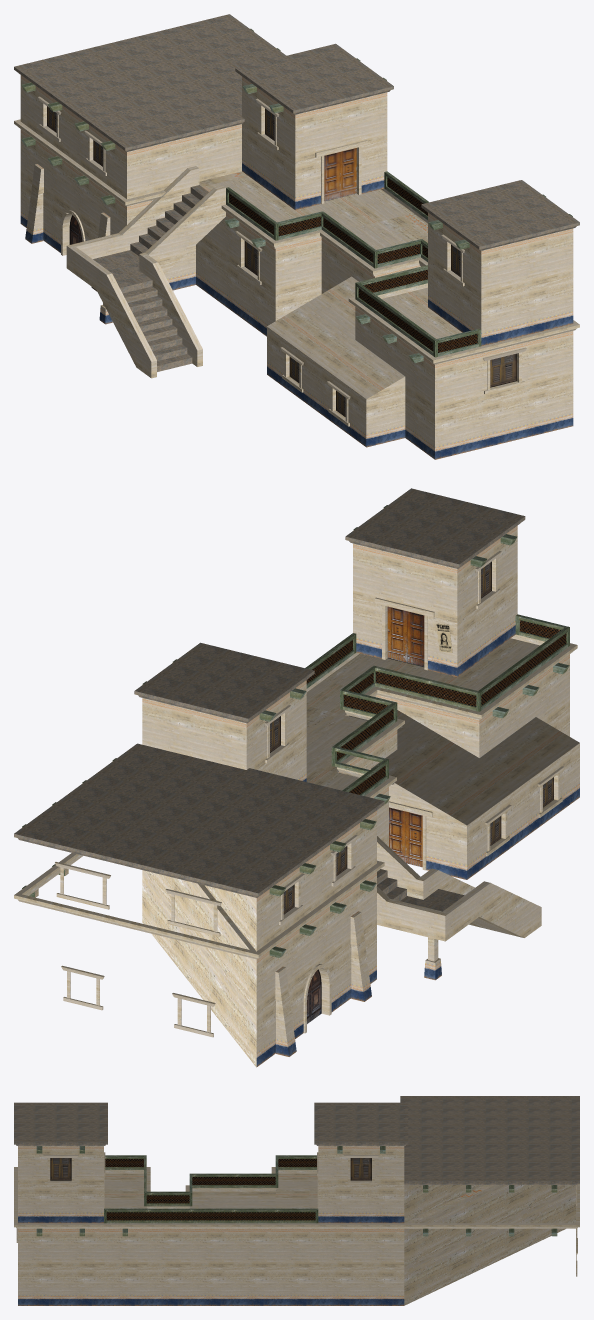
File: StaticMesh0.fbx
The picture shows the model from 3 angles, top to bottom: view 1: azimuth 30°, elevation 25°; view 2: azimuth 150°, elevation 25°; view 3: azimuth 270°, elevation 25°; orthographic projection. The views are drawn at different scales.
Parts seen in each view (by area): view 1: StaticMesh0; view 2: StaticMesh0; view 3: StaticMesh0.
Boxes of the visible parts, left/top/right/bottom form: StaticMesh0: left=14, top=14, right=579, bottom=459; StaticMesh0: left=14, top=488, right=579, bottom=1067; StaticMesh0: left=14, top=1096, right=579, bottom=1305.
Bounding box in the file's own units: 77601 × 54400 × 168801.
